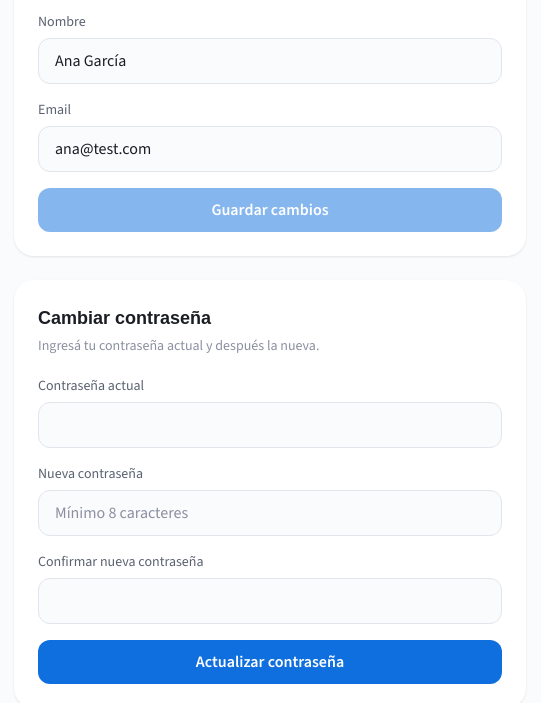
Test: Settings — cambiar contraseña › muestra error si las contraseñas nuevas no coinciden
(page scrolled)
Type "actual123" into the password field labelled "Contraseña actual" at (270, 425), box [38,402,502,448]
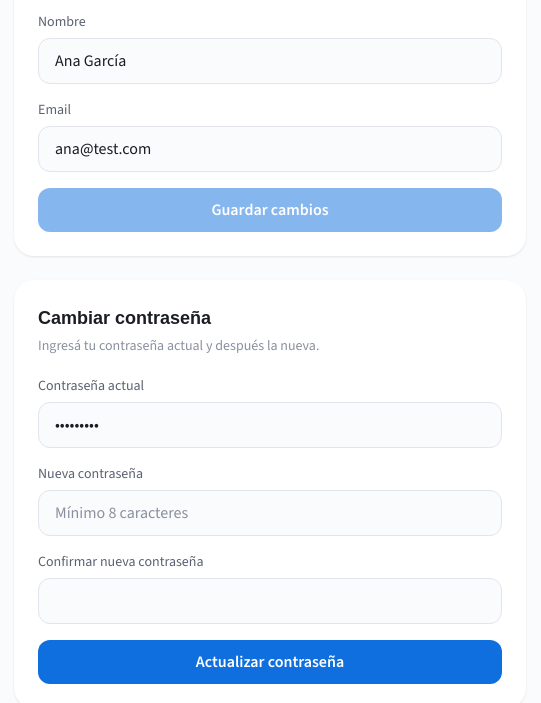
Type "nueva12345" into the password field labelled "Nueva contraseña" at (270, 513), box [38,490,502,536]
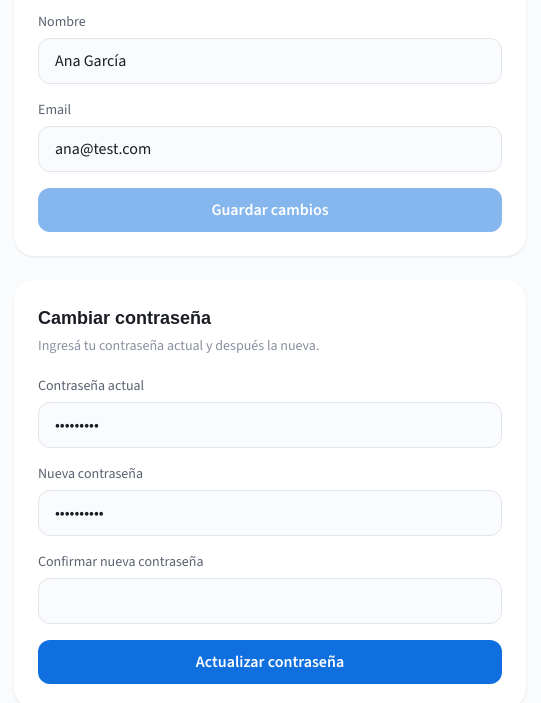
Type "diferente" into the password field labelled "Confirmar nueva contraseña" at (270, 601), box [38,578,502,624]
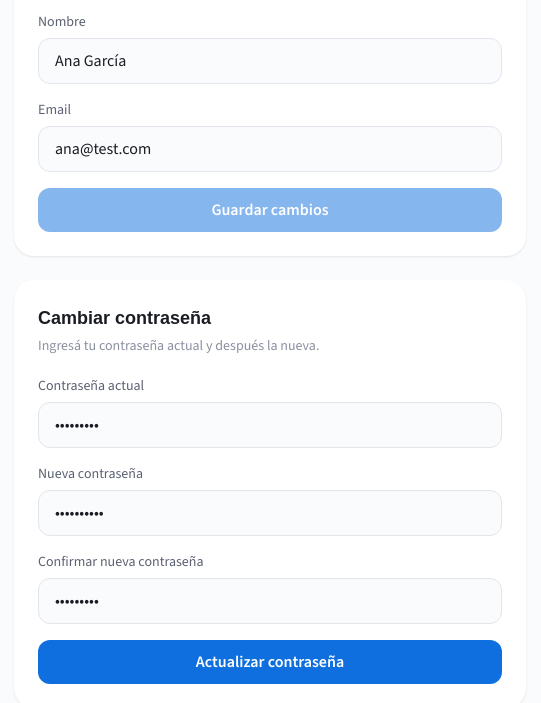
Submit the form labelled "Nueva contraseña", box [38,376,502,684]
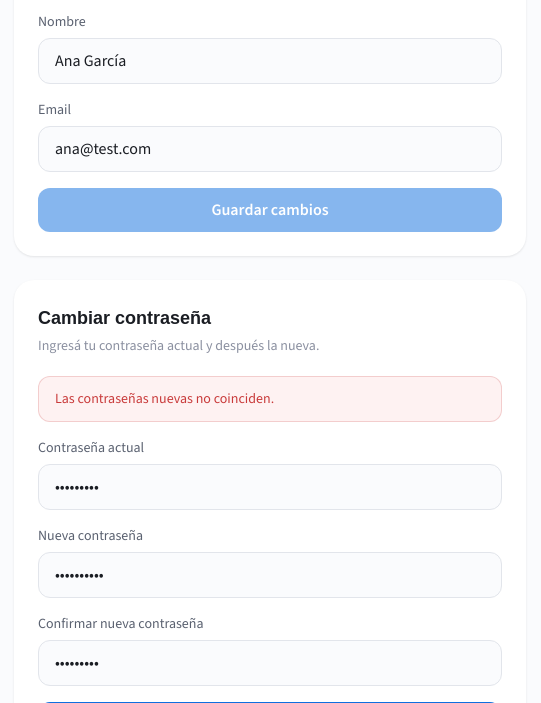
Expected: the message reads "Las contraseñas nuevas no coinciden.", [55,389,274,408]
